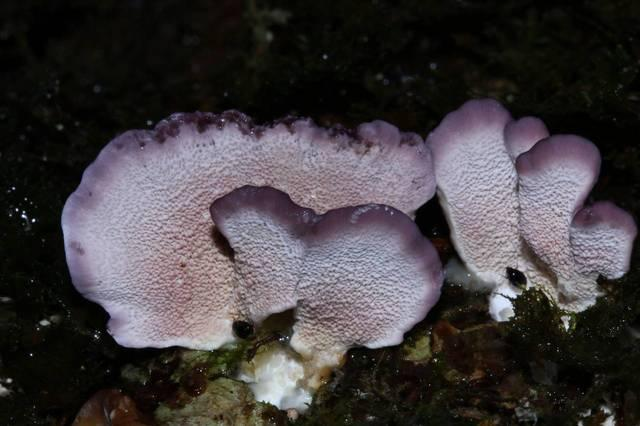Non-edible Mushroom: (59, 107, 441, 356), (425, 95, 637, 327)
